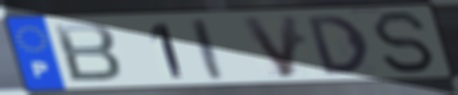1: (148, 21, 187, 79)
B: (50, 22, 125, 84)
D: (303, 13, 372, 77)
I: (186, 17, 227, 82)
S: (368, 10, 439, 76)
V: (238, 13, 301, 80)
